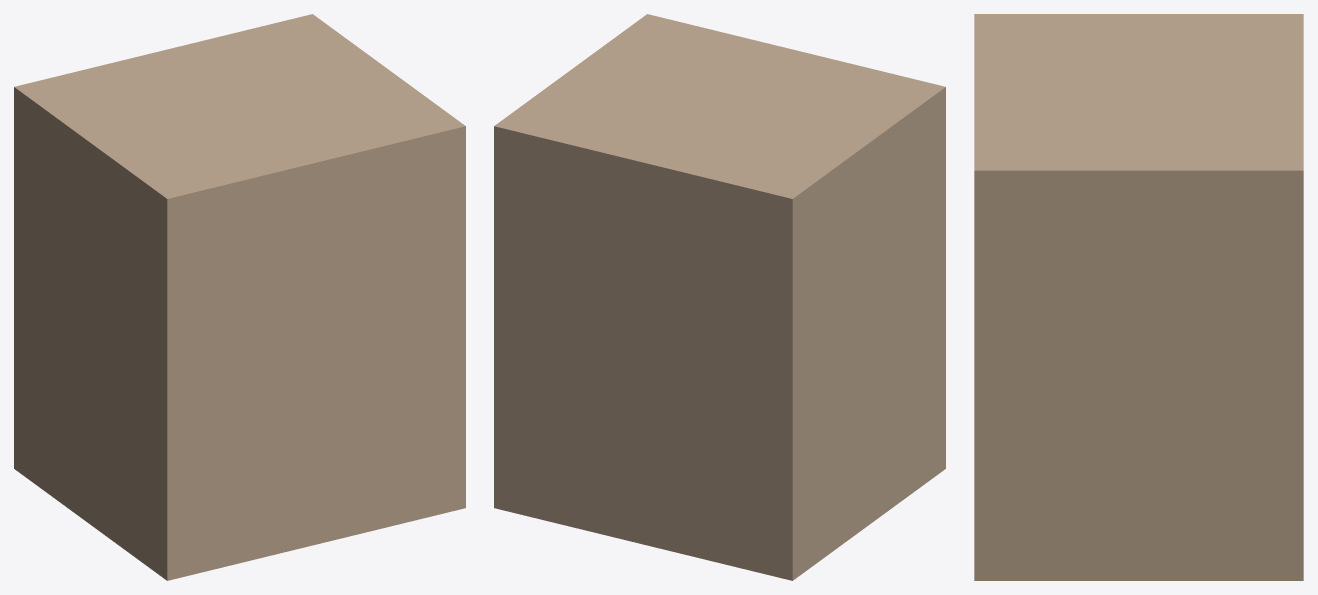
The model's file is nightstand.glb.
The picture shows the model from 3 angles, left to right: view 1: azimuth 30°, elevation 25°; view 2: azimuth 150°, elevation 25°; view 3: azimuth 270°, elevation 25°; orthographic projection. The views are drawn at different scales.
Parts seen in each view (by area): view 1: nightstand; view 2: nightstand; view 3: nightstand.
Part boxes in pixels (box(x1,y1,x2,y2)): nightstand: box(14, 14, 465, 580); nightstand: box(494, 14, 945, 580); nightstand: box(974, 14, 1303, 580).
Size of what is drawn, in the model's own units: 0.45 by 0.55 by 0.4.
